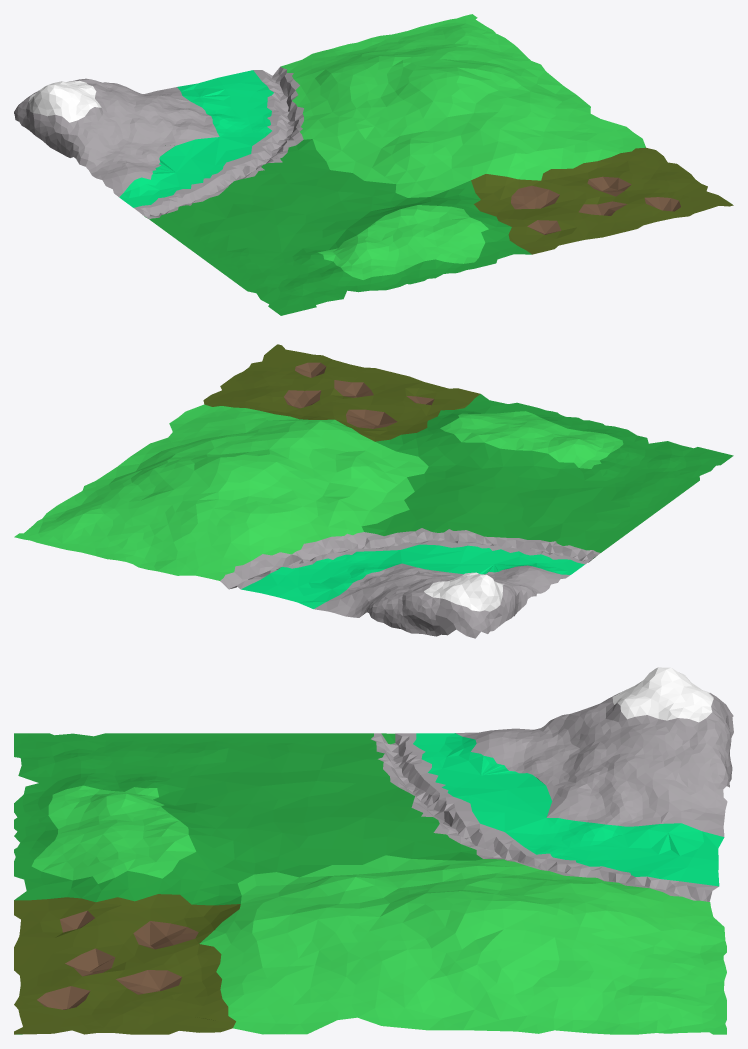
File: betterForestWithColourUNWRAPPEDsplit.fbx
3 renders of one model, top to bottom at view 1: azimuth 30°, elevation 25°; view 2: azimuth 150°, elevation 25°; view 3: azimuth 270°, elevation 25°, orthographic. The views are drawn at different scales.
Parts seen in each view (by area): view 1: Plane.002, Plane.001, Plane.005, Plane.003, Plane.006, Plane.004, Plane; view 2: Plane.002, Plane.001, Plane.005, Plane.003, Plane.006, Plane.004, Plane; view 3: Plane.002, Plane.001, Plane.005, Plane.003, Plane.006, Plane.004, Plane.
Part boxes in pixels (<box>): Plane.002: <box>280,14,645,279</box>; Plane.001: <box>144,139,531,315</box>; Plane.005: <box>14,66,303,219</box>; Plane.003: <box>471,147,733,254</box>; Plane.006: <box>119,70,273,207</box>; Plane.004: <box>511,176,680,234</box>; Plane: <box>28,80,101,122</box>; Plane.002: <box>14,404,623,580</box>; Plane.001: <box>361,394,733,558</box>; Plane.005: <box>220,528,600,638</box>; Plane.003: <box>203,344,480,441</box>; Plane.006: <box>241,544,584,608</box>; Plane.004: <box>284,362,434,428</box>; Plane: <box>424,572,503,611</box>; Plane.002: <box>31,785,726,1034</box>; Plane.001: <box>14,733,542,1034</box>; Plane.005: <box>371,691,733,901</box>; Plane.003: <box>14,894,240,1034</box>; Plane.006: <box>413,733,724,886</box>; Plane.004: <box>37,910,198,1009</box>; Plane: <box>612,667,713,722</box>.
Size of the model in its own units: 51368 by 6488 by 50487.
